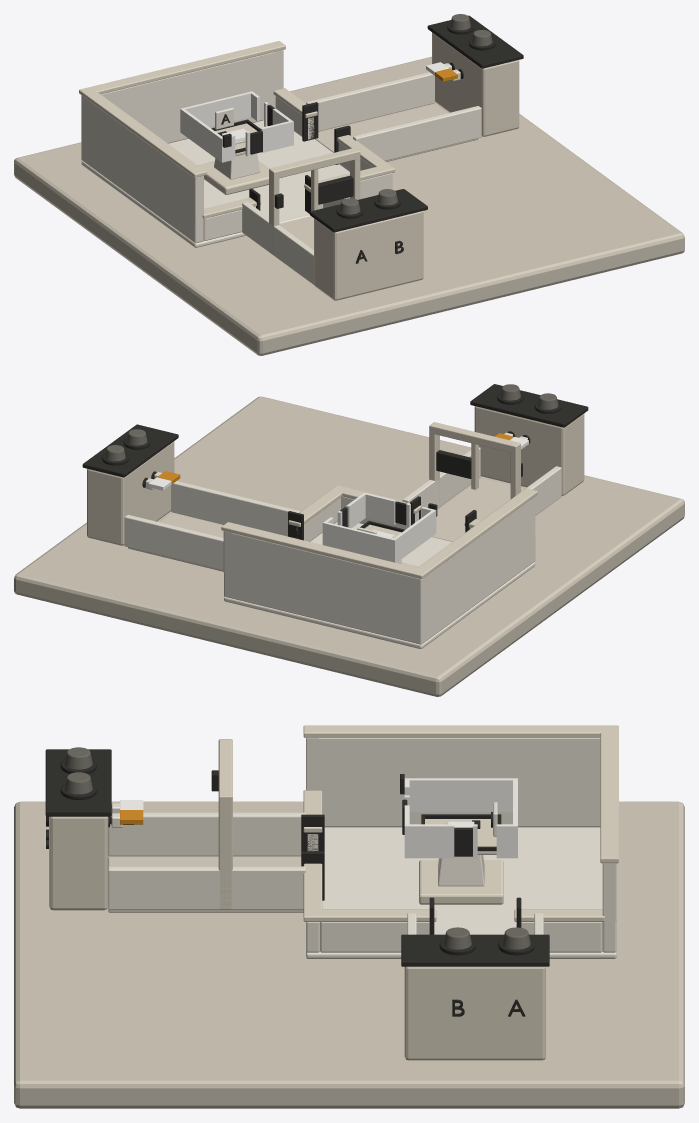
3 views of the same model, one above another, from view 1: azimuth 30°, elevation 25°; view 2: azimuth 150°, elevation 25°; view 3: azimuth 270°, elevation 25° (orthographic). The views are drawn at different scales.
Parts seen in each view (by area): view 1: Plinth, Vault_wall_1, Station_front, Vault_wall_0, Vault_floor, Station_export, Guard_collar, Export_parapet_N, Export_parapet_S, Front_parapet_W, Vault_coping_0, Station_front_cap (+14 smaller); view 2: Plinth, Vault_wall_0, Vault_wall_1, Station_front, Station_export, Guard_collar, Export_parapet_S, Export_parapet_N, Front_corridor, Vault_floor, Vault_coping_0, Station_front_cap (+11 smaller); view 3: Plinth, Vault_wall_1, Vault_floor, Station_export, Front_parapet_E, Front_parapet_W, Guard_collar, Station_front, Vault_coping_1, Station_export_cap, Station_front_cap, Vault_wall_4 (+15 smaller).
Part boxes in pixels (x1=…): Plinth: x1=14, y1=56, x2=684, y2=355; Vault_wall_1: x1=81, y1=95, x2=203, y2=243; Station_front: x1=314, y1=211, x2=423, y2=300; Vault_wall_0: x1=81, y1=50, x2=282, y2=162; Vault_floor: x1=81, y1=120, x2=349, y2=247; Station_export: x1=432, y1=32, x2=519, y2=136; Guard_collar: x1=180, y1=91, x2=293, y2=162; Export_parapet_N: x1=306, y1=72, x2=434, y2=131; Export_parapet_S: x1=353, y1=106, x2=481, y2=160; Front_parapet_W: x1=242, y1=202, x2=313, y2=284; Vault_coping_0: x1=79, y1=41, x2=285, y2=96; Station_front_cap: x1=309, y1=189, x2=427, y2=232; Plinth: x1=14, y1=396, x2=684, y2=696; Vault_wall_0: x1=224, y1=532, x2=425, y2=644; Vault_wall_1: x1=413, y1=497, x2=535, y2=644; Station_front: x1=474, y1=406, x2=584, y2=495; Station_export: x1=87, y1=441, x2=174, y2=545; Guard_collar: x1=322, y1=492, x2=436, y2=562; Export_parapet_S: x1=171, y1=481, x2=300, y2=536; Export_parapet_N: x1=124, y1=514, x2=223, y2=570; Front_corridor: x1=432, y1=477, x2=525, y2=541; Vault_floor: x1=224, y1=522, x2=535, y2=648; Vault_coping_0: x1=221, y1=522, x2=427, y2=578; Station_front_cap: x1=470, y1=384, x2=588, y2=427; Plinth: x1=14, y1=801, x2=684, y2=1108; Vault_wall_1: x1=307, y1=737, x2=600, y2=827; Vault_floor: x1=306, y1=827, x2=616, y2=958; Station_export: x1=404, y1=966, x2=545, y2=1060; Front_parapet_E: x1=108, y1=866, x2=305, y2=909; Front_parapet_W: x1=108, y1=812, x2=305, y2=856; Guard_collar: x1=404, y1=778, x2=517, y2=858; Station_front: x1=49, y1=816, x2=108, y2=910; Vault_coping_1: x1=303, y1=725, x2=618, y2=737; Station_export_cap: x1=401, y1=934, x2=549, y2=966; Station_front_cap: x1=45, y1=749, x2=111, y2=816; Vault_wall_4: x1=320, y1=922, x2=429, y2=952.
Size of the model in its own units: 5.7 by 1.42 by 5.7.
